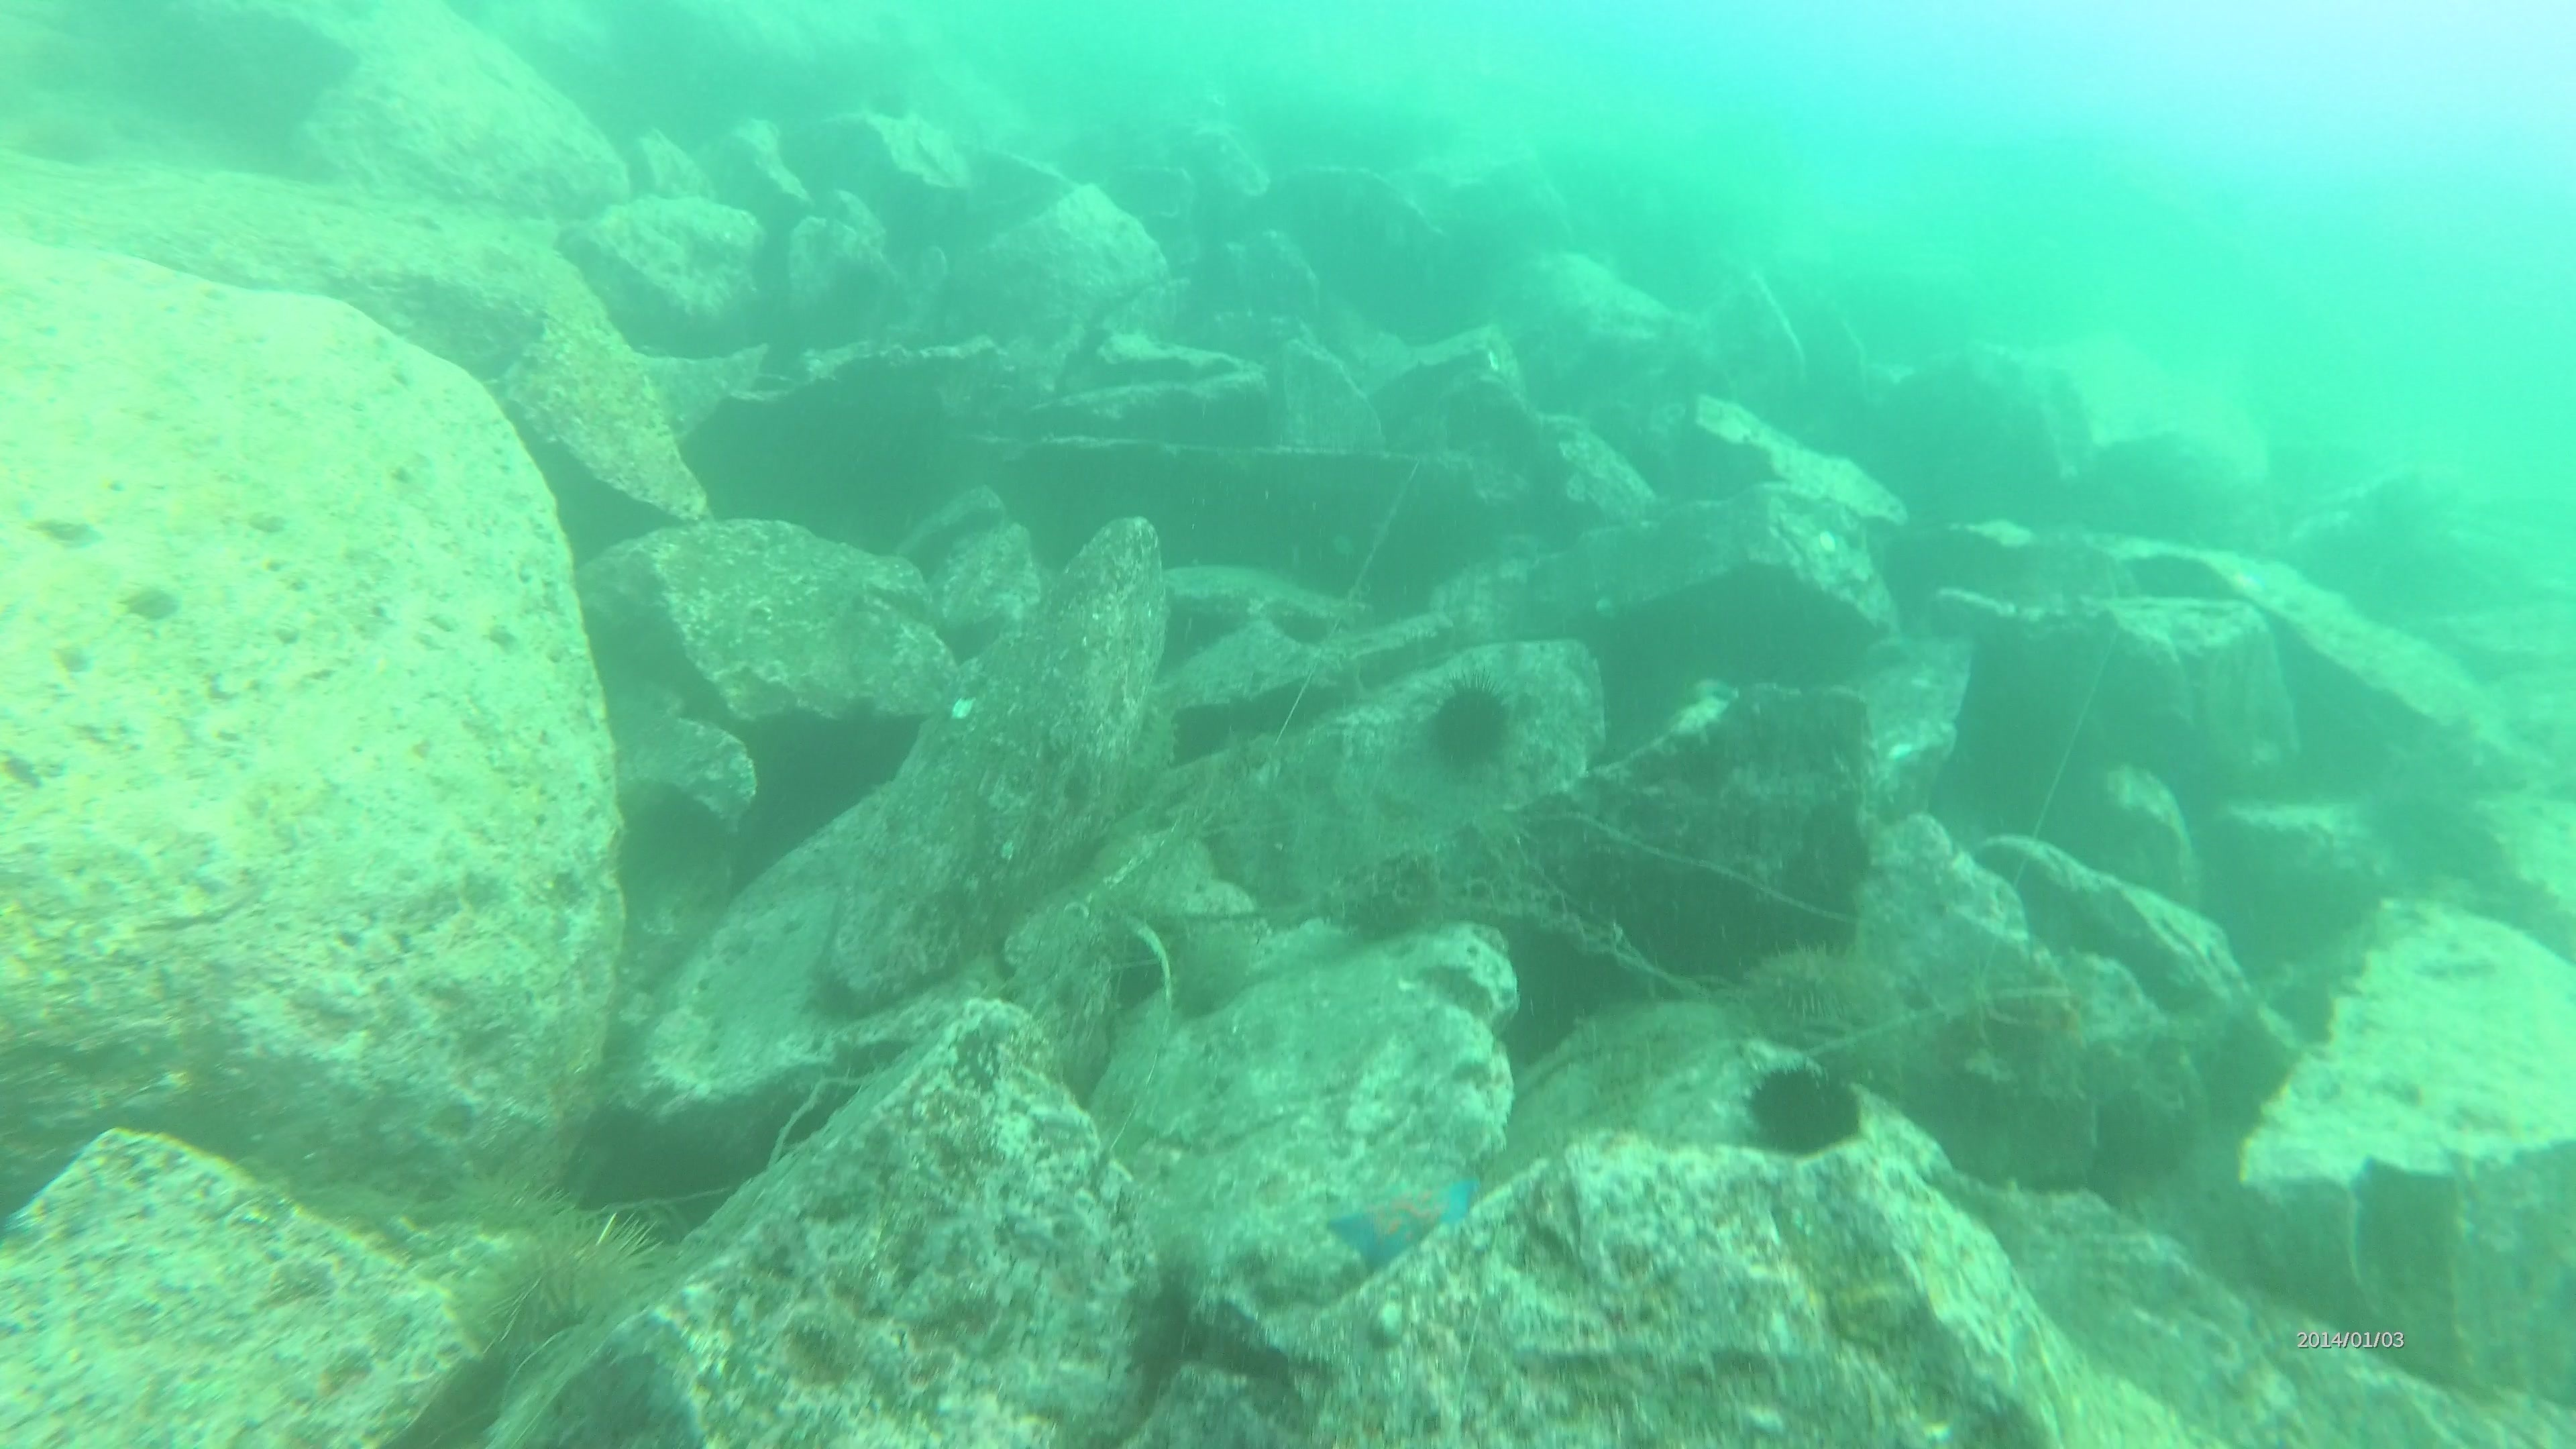echinus: (478, 1207, 665, 1346), (1730, 936, 1902, 1053), (414, 1155, 584, 1247), (1736, 1054, 1868, 1166), (1414, 671, 1523, 782)
starfish: (1318, 1157, 1483, 1277)
